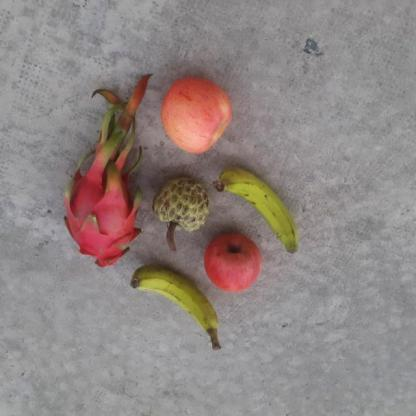annona: (151, 178, 215, 233)
apple: (156, 72, 232, 155), (206, 232, 264, 297)
banana: (213, 167, 298, 257), (126, 264, 225, 338)
pitaya: (60, 167, 147, 272)
